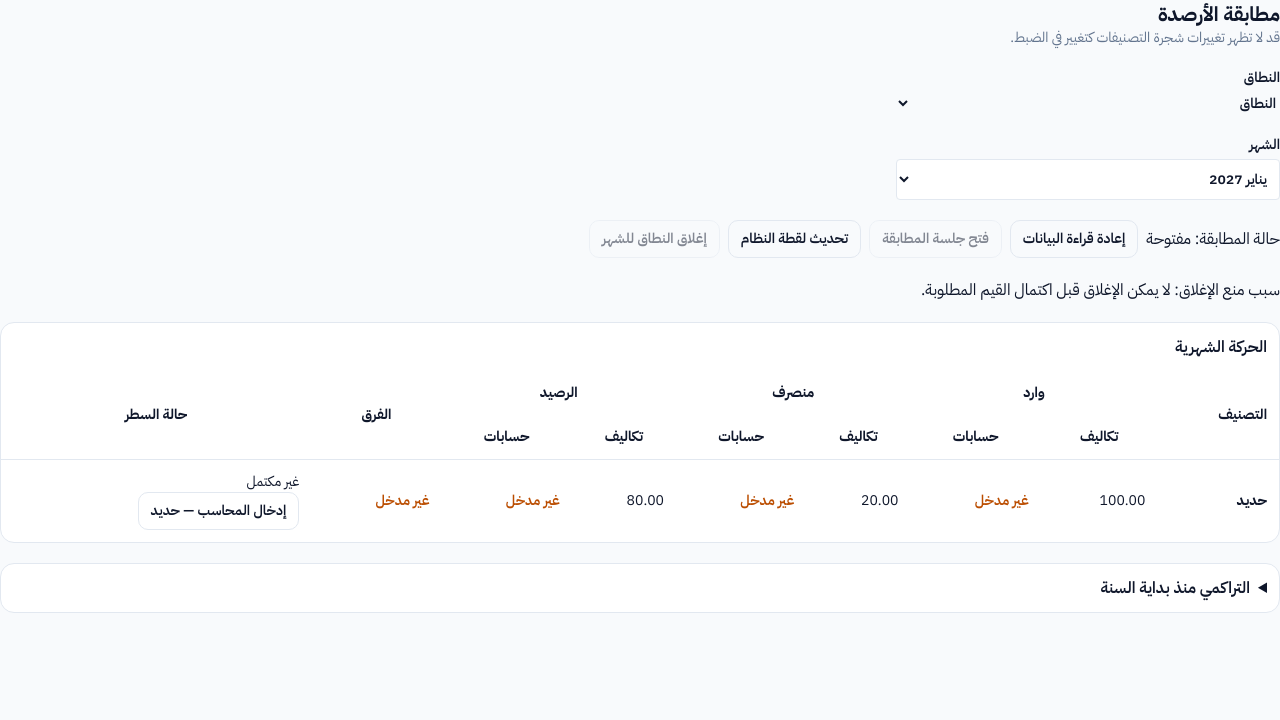
Test case: v3 reconciliation › sends exact strings for all movements and null opening, and clears the draft only after confirmed reread
Click the button "إدخال المحاسب — حديد" at (218, 511), box [138,492,299,530]
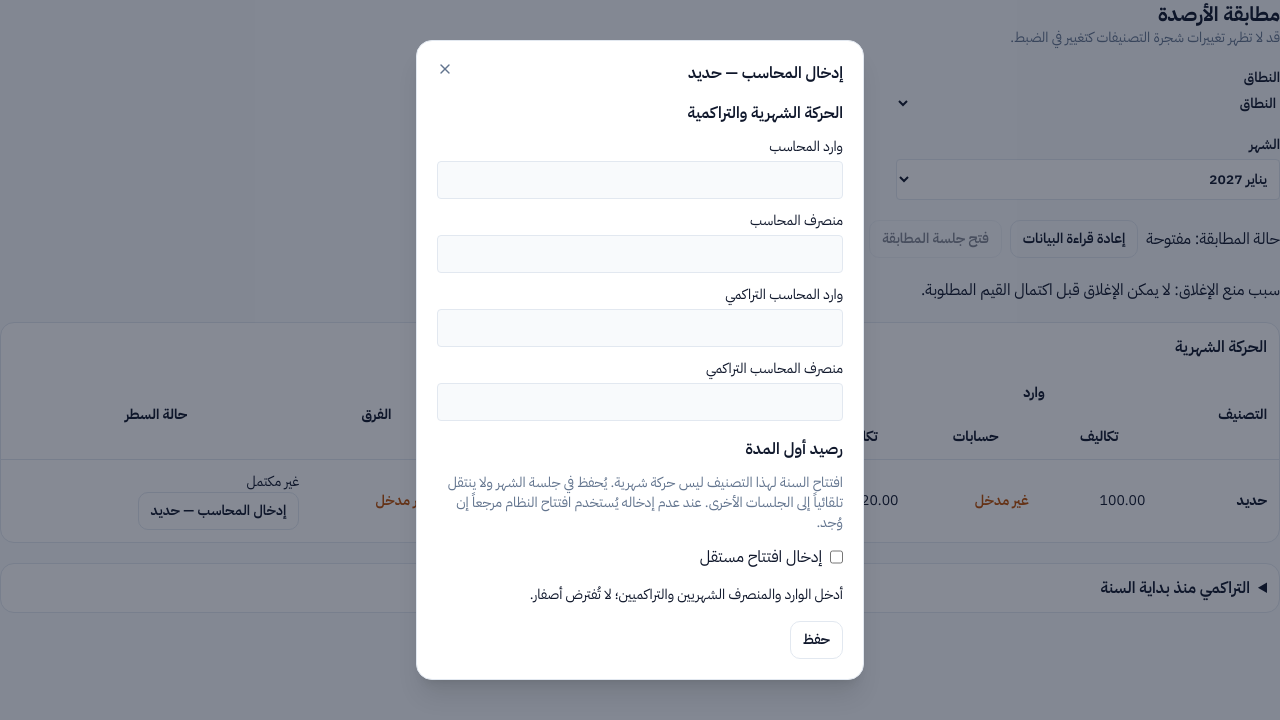
Type "9999999999999999.99" into the field labelled "وارد المحاسب" at (640, 180), box [437,161,843,199]
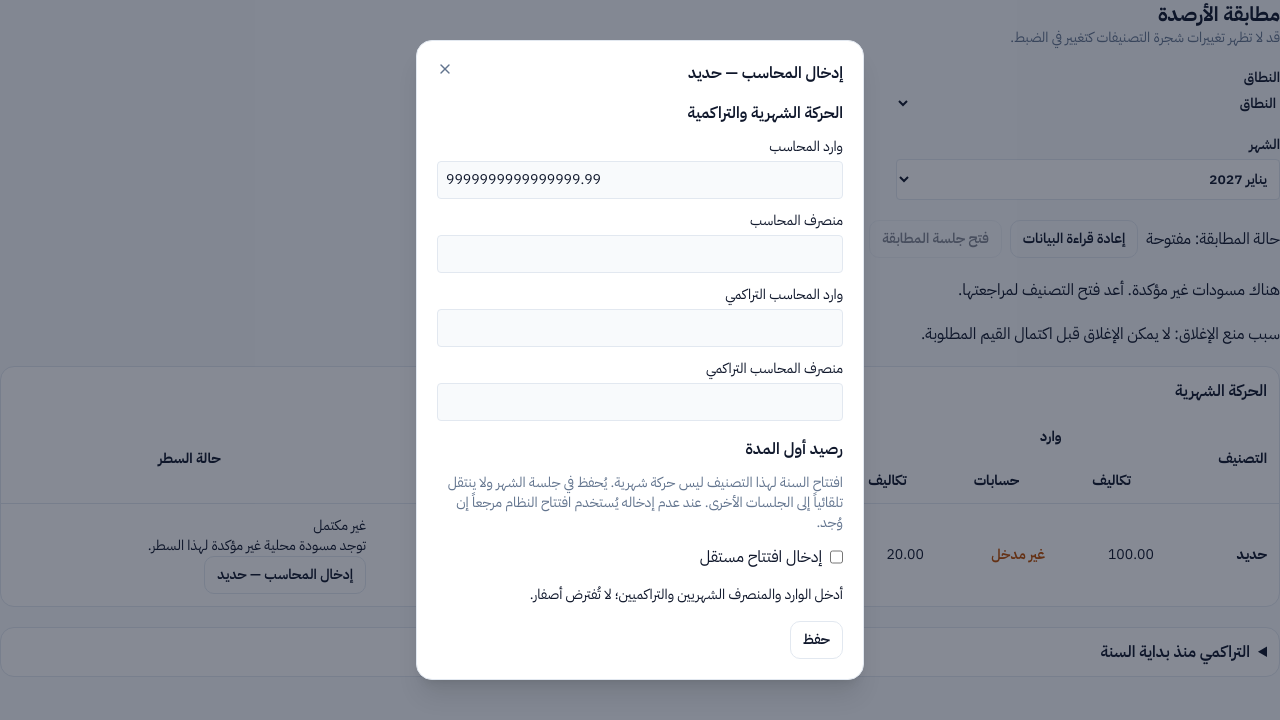
Type "20" into the field labelled "منصرف المحاسب" at (640, 254), box [437,235,843,273]
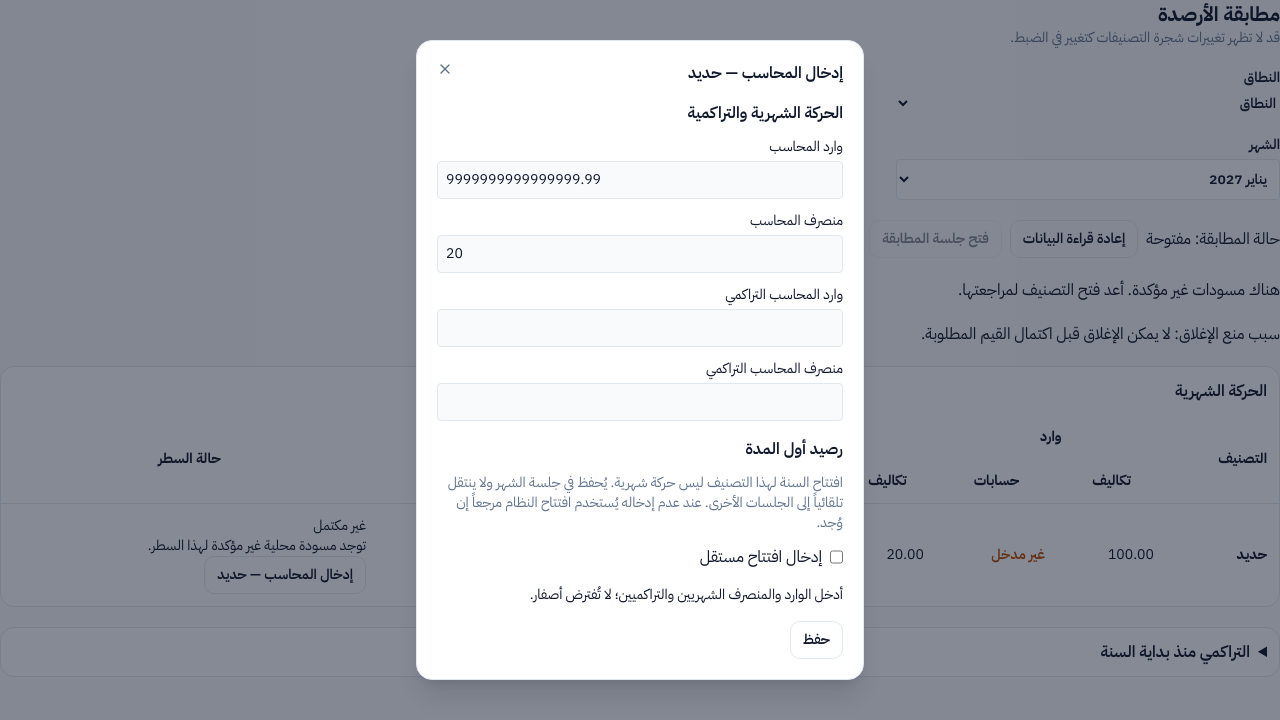
Type "130" into the field labelled "وارد المحاسب التراكمي" at (640, 328), box [437,309,843,347]
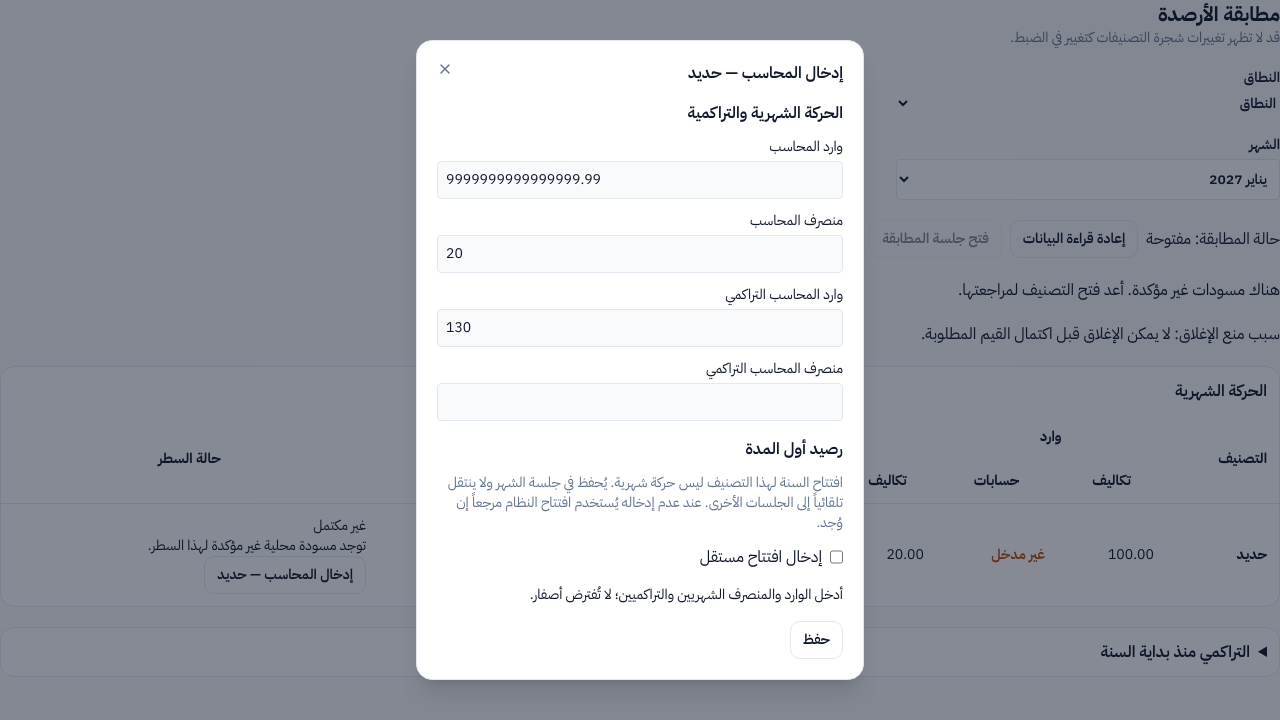
Type "30" into the field labelled "منصرف المحاسب التراكمي" at (640, 402), box [437,383,843,421]
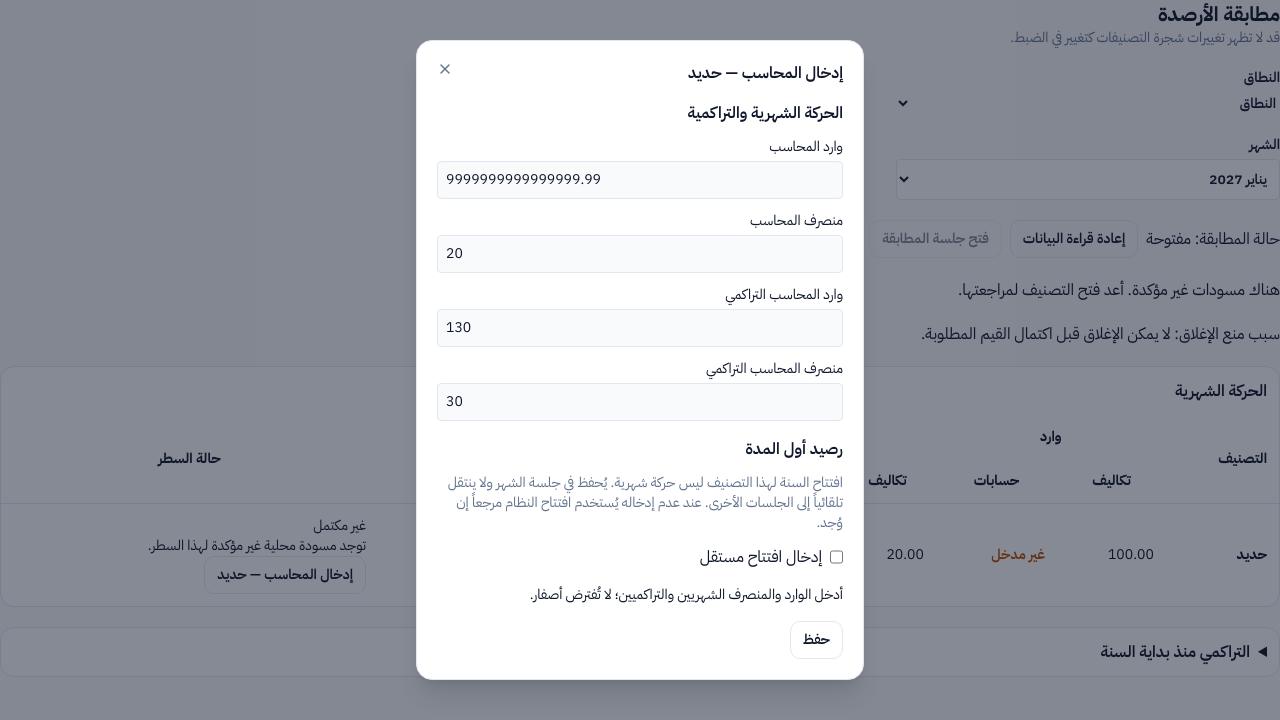
Click the button "حفظ" at (817, 640), box [790,621,843,659]
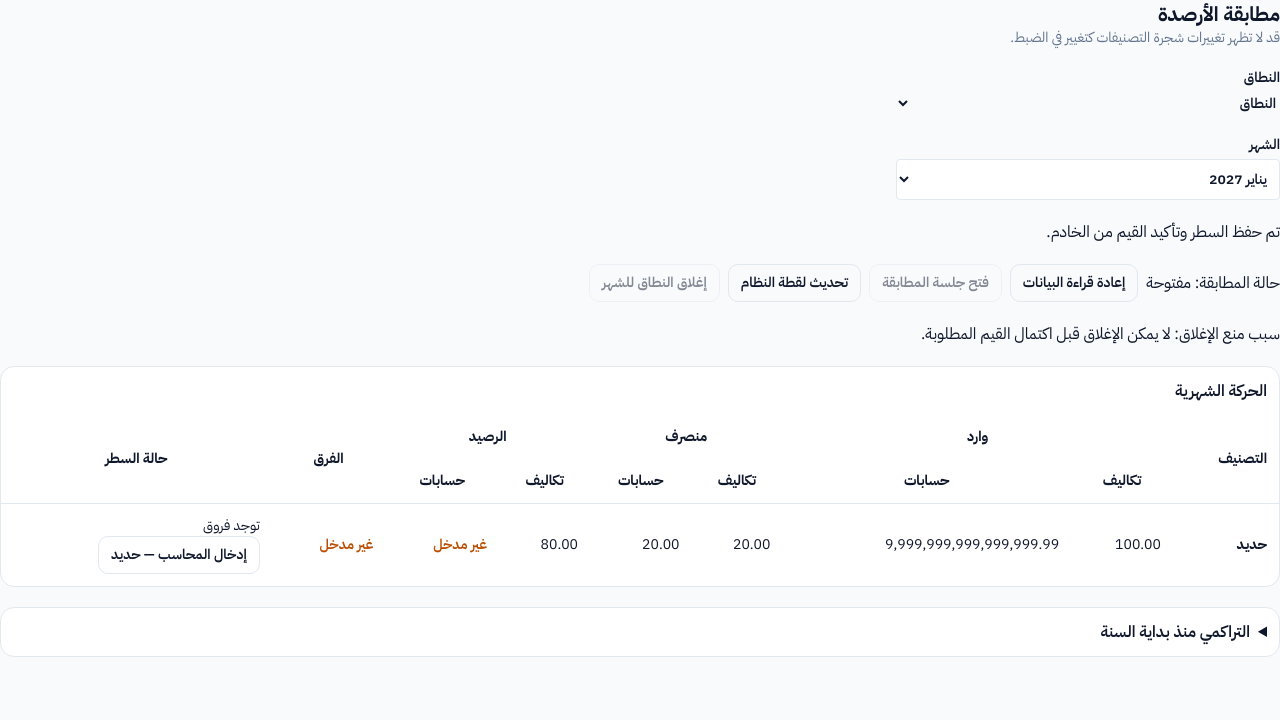
Expected: the text "تم حفظ السطر وتأكيد القيم من الخادم." is shown, [1046,220,1279,244]
